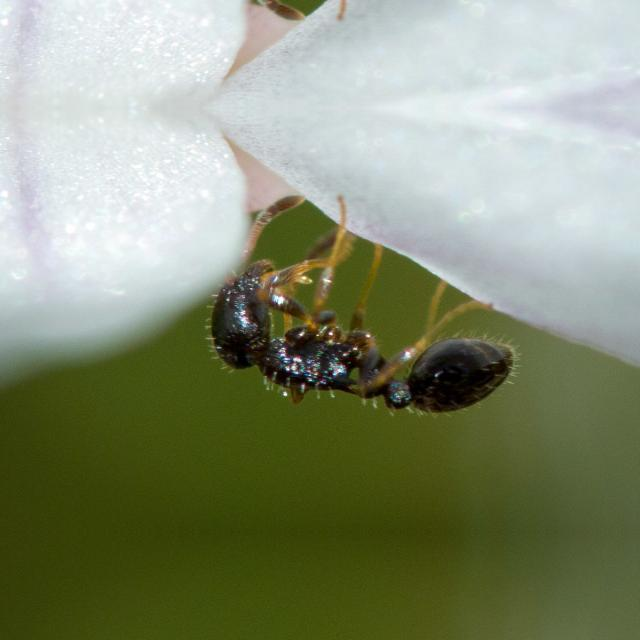Temnothorax: (178, 230, 552, 424)
